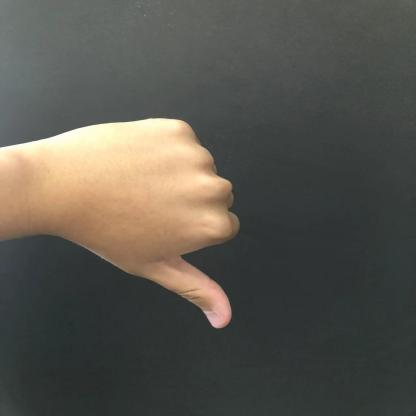Thumbs-Down: (61, 90, 273, 337)
